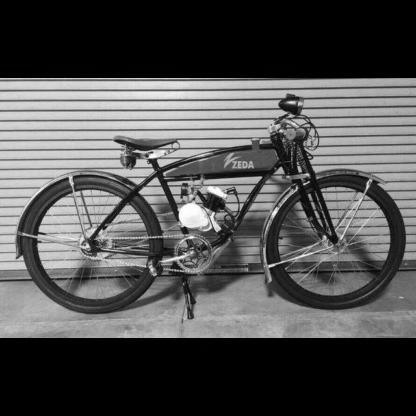Bicycle: (0, 92, 415, 332)
